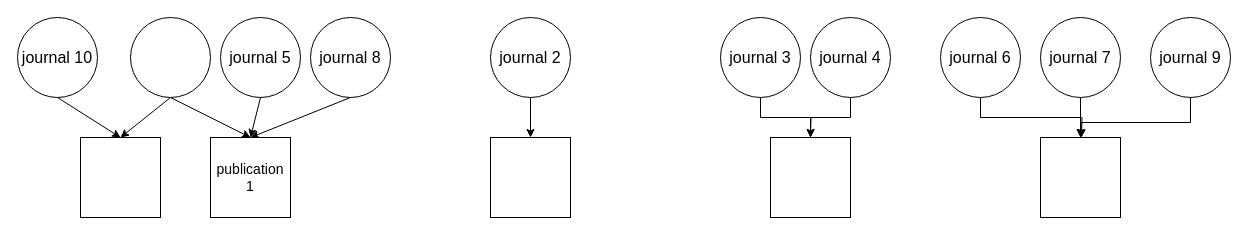
The diagram is 1248 pixels wide and 235 high, and some of its shapes have lost their labels. The box of each missing label's shape, as (x1, y1, x2, y2) in pixels:
journal 1: (130, 16, 210, 98)
publication 2: (490, 136, 570, 218)
publication 3: (770, 136, 850, 218)
publication 4: (1040, 136, 1120, 218)
publication 9: (80, 136, 160, 218)
